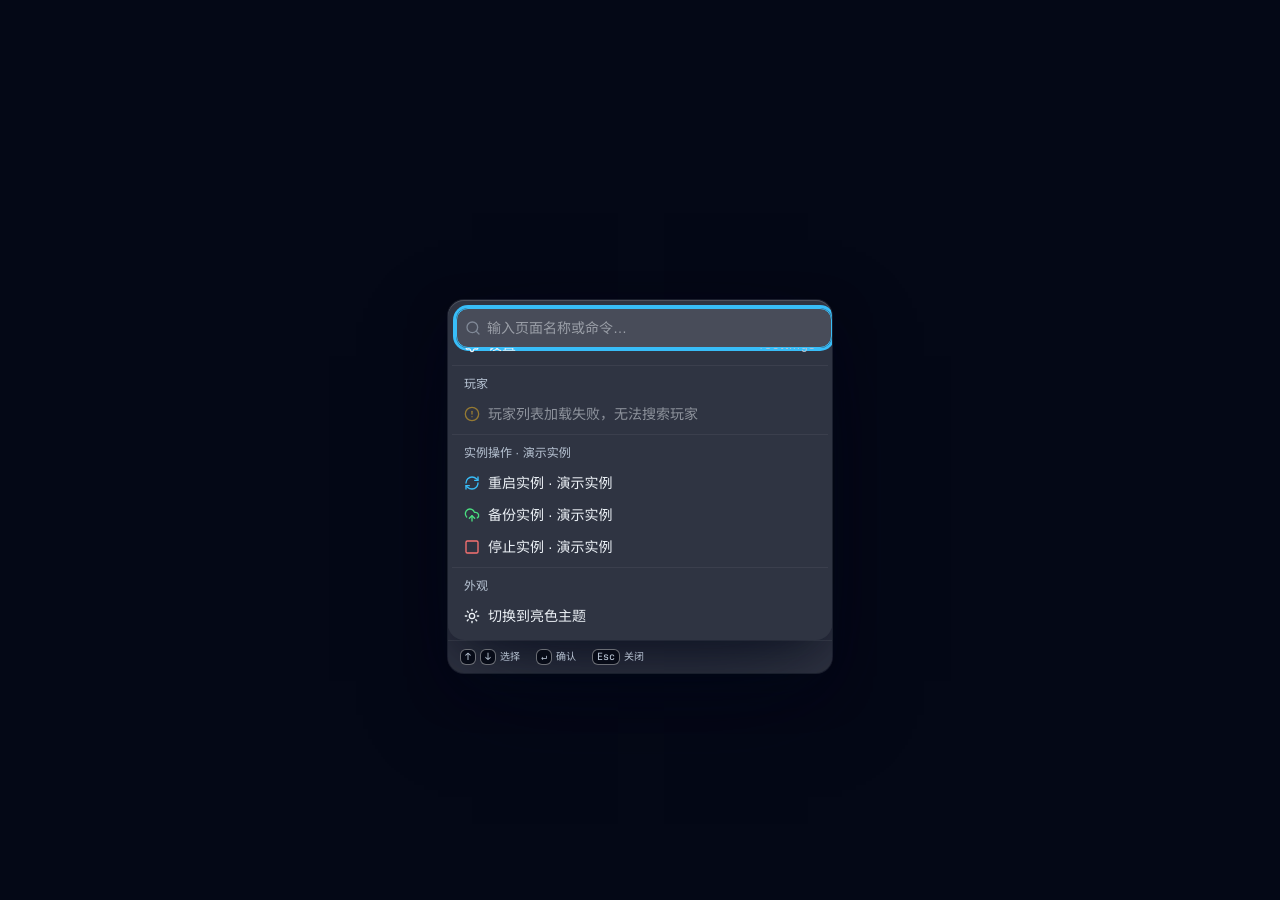
CommandPalette 实例操作分组 › 备份：无确认直接执行 POST backups
This screenshot has width=1280, height=900.
(page scrolled)
Expected: the dropdown with placeholder "输入页面名称或命令…" is shown, [481,318,831,338]
Click the option "备份实例 · 演示实例".
click(538, 515)  # box [464,507,612,523]
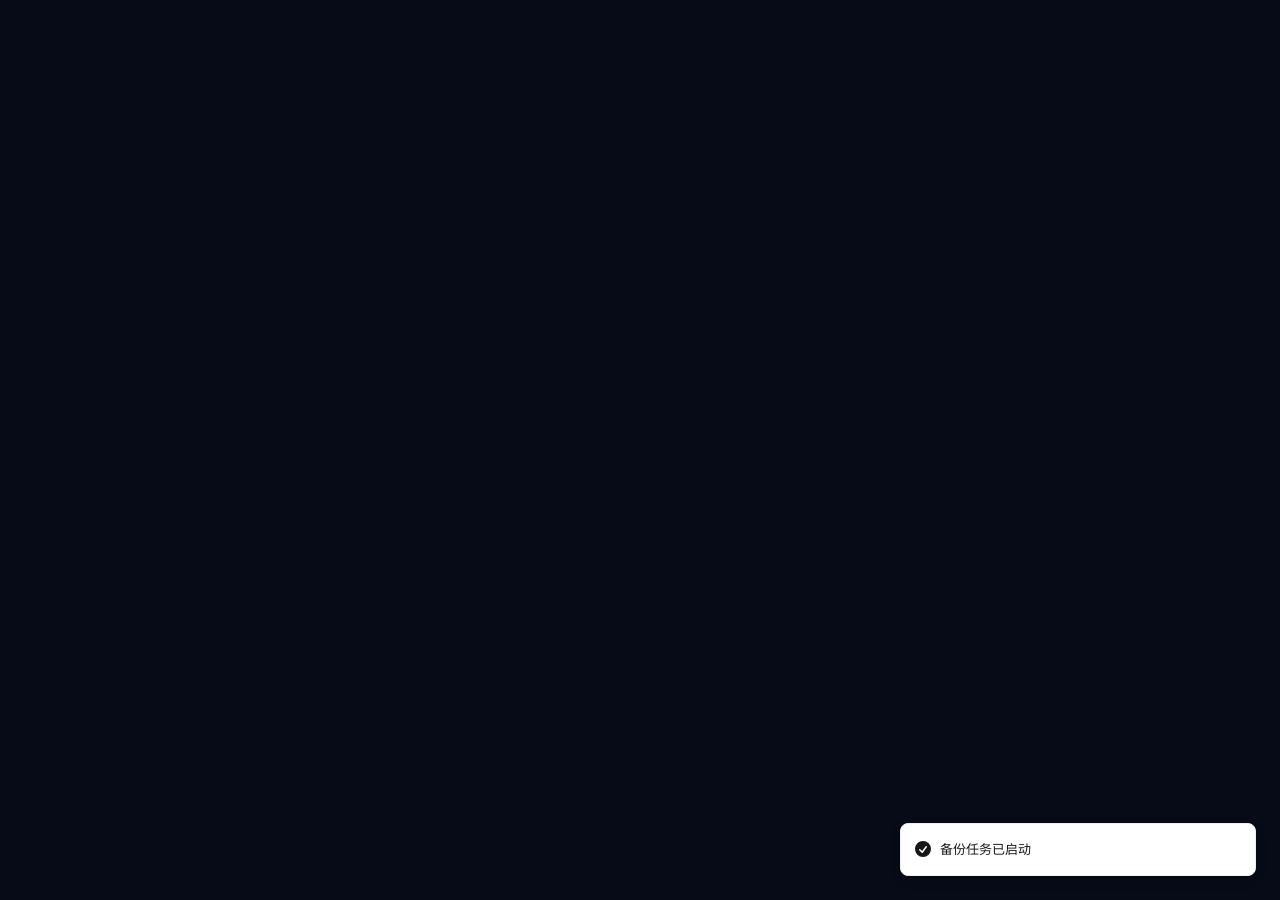
Expected: the text "备份任务已启动" is shown, [940,840,1031,859]
